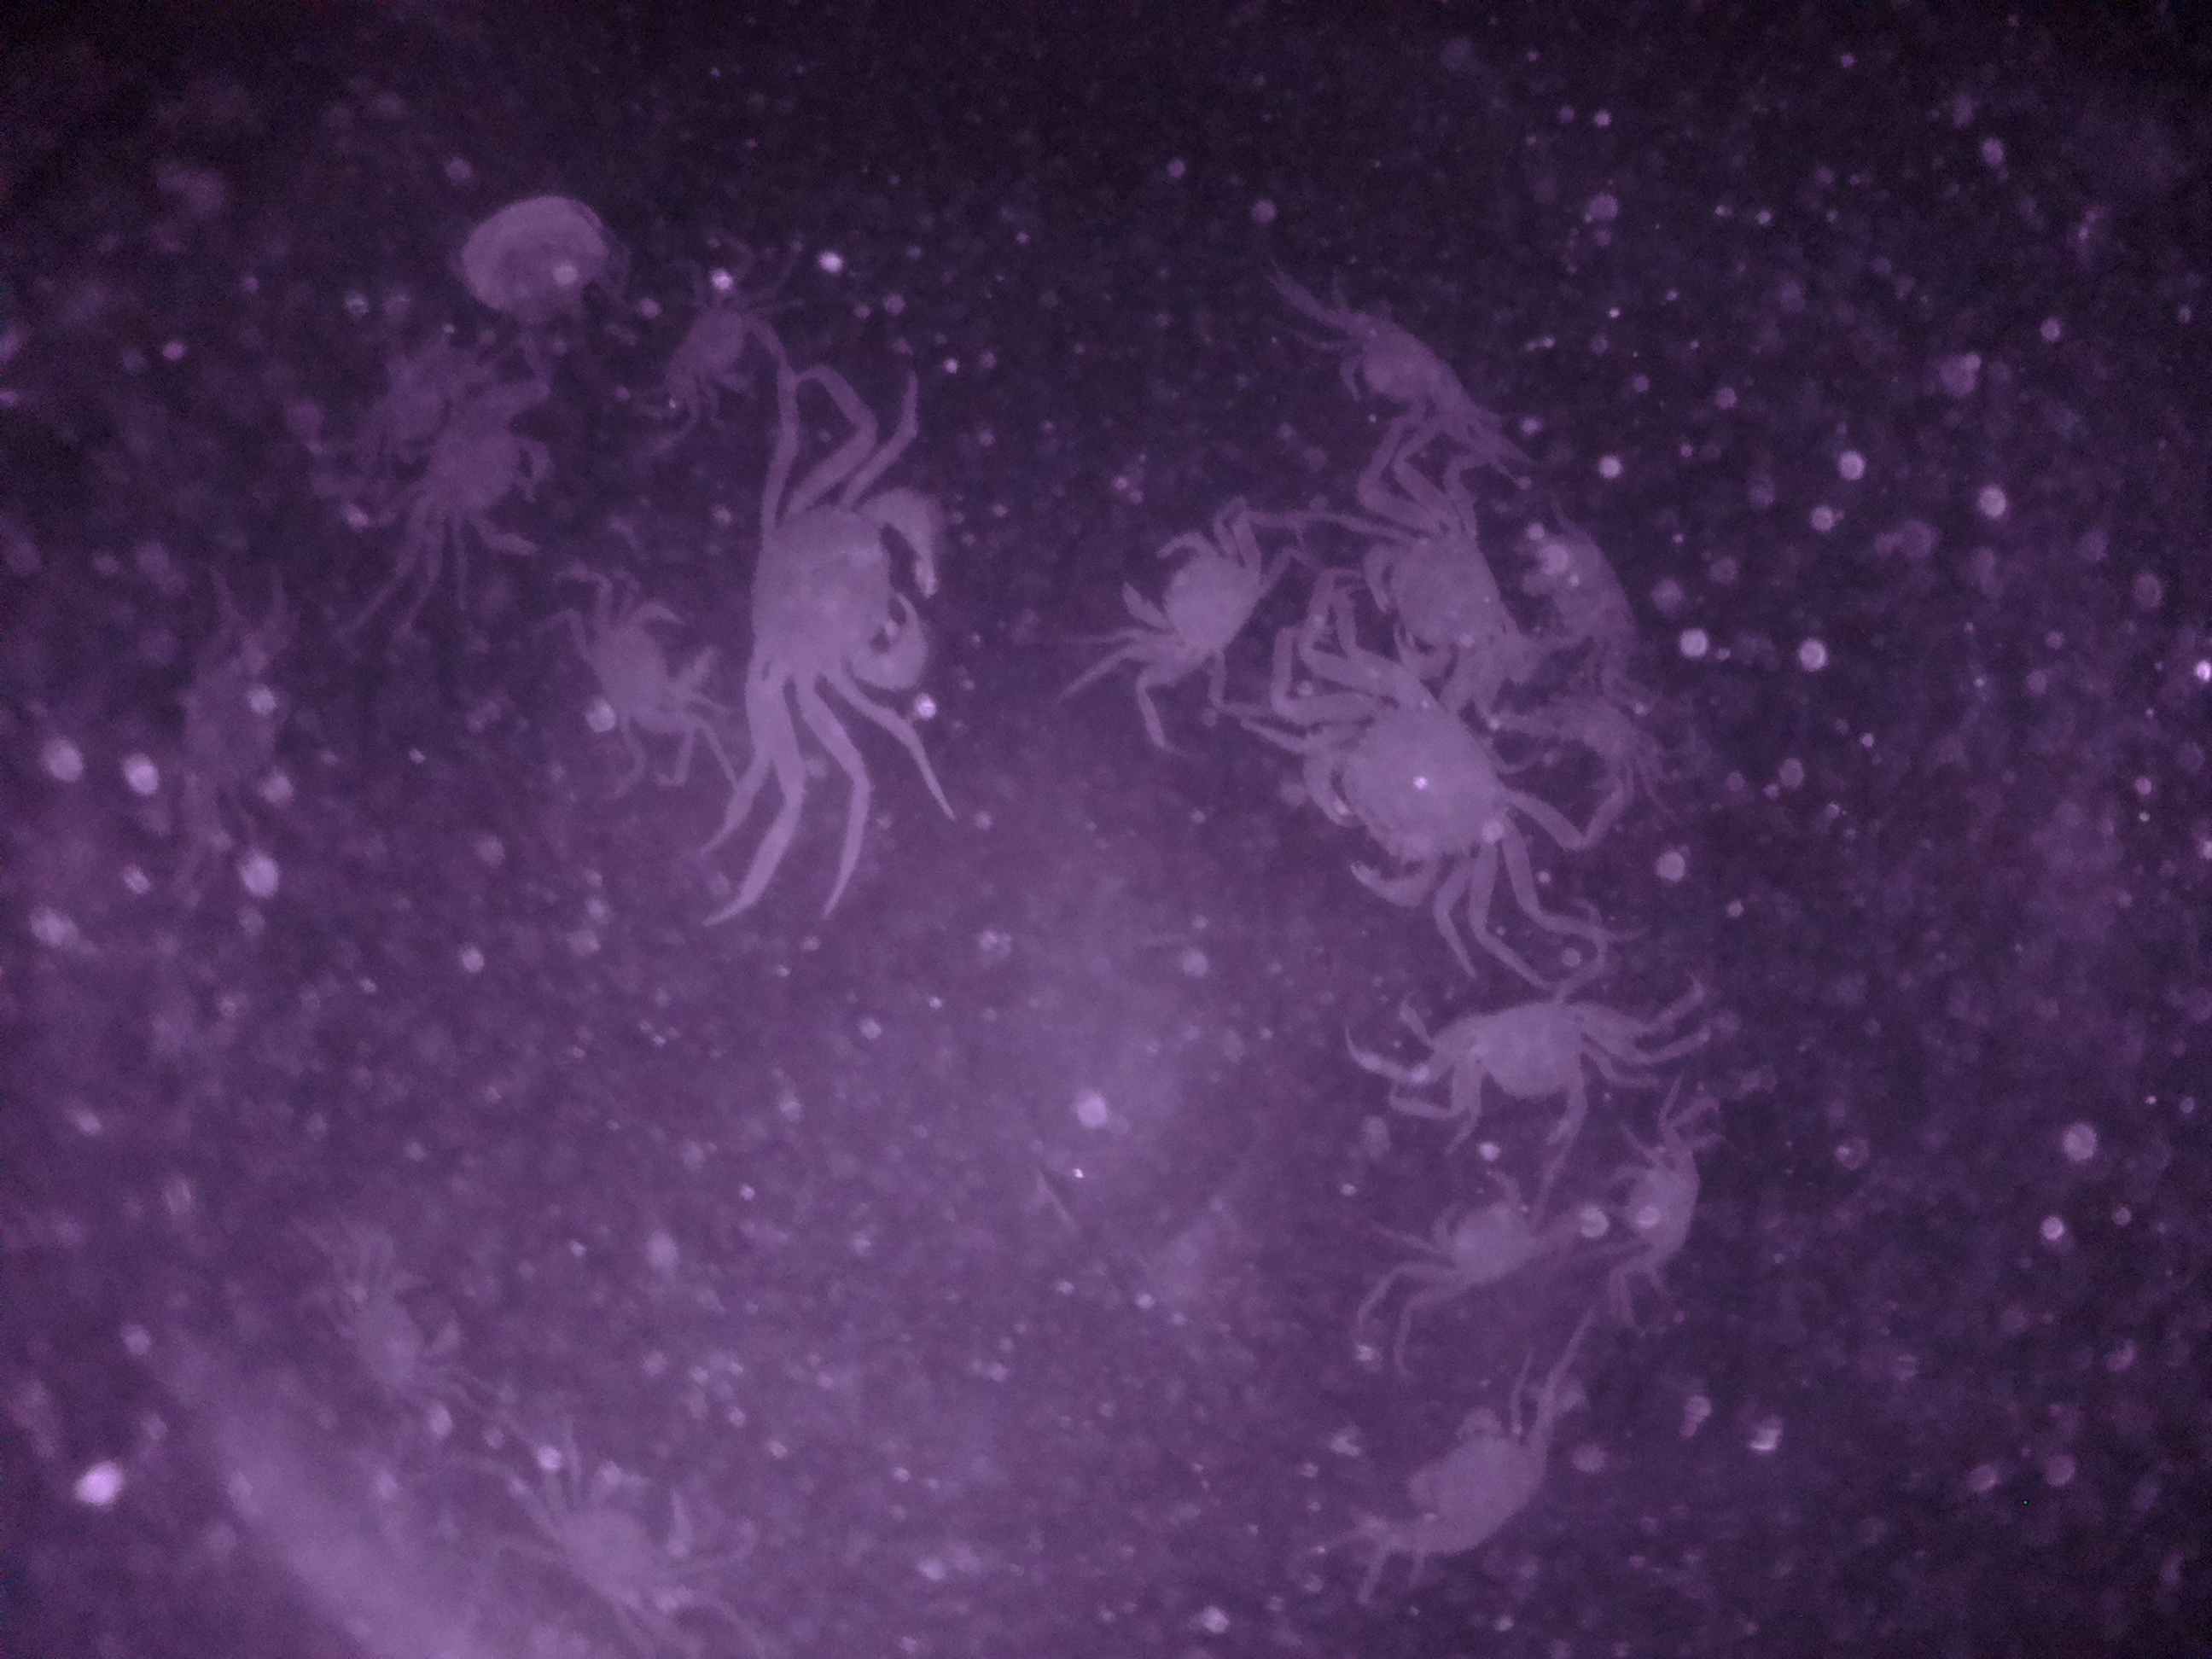Crab: (723, 453, 963, 734), (1299, 643, 1522, 911), (1413, 981, 1642, 1145), (1397, 1392, 1569, 1593), (1108, 498, 1280, 697), (563, 584, 728, 742)
